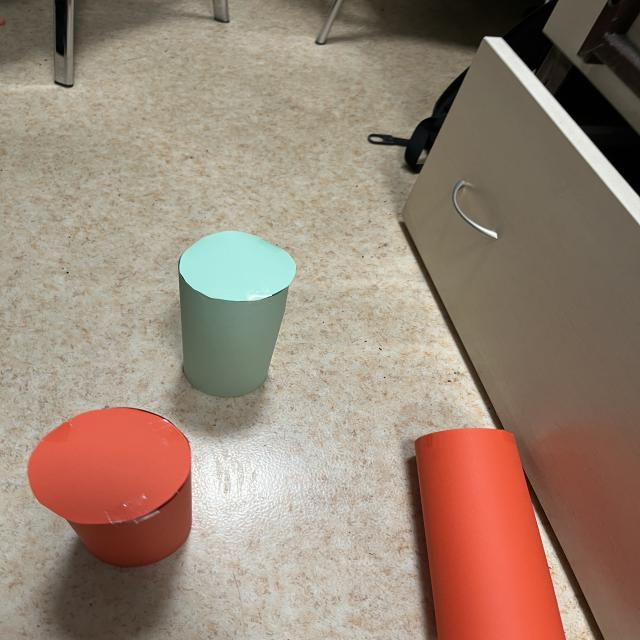meta: (178, 231, 296, 397)
przeszkoda: (415, 428, 566, 640), (28, 407, 192, 567)
